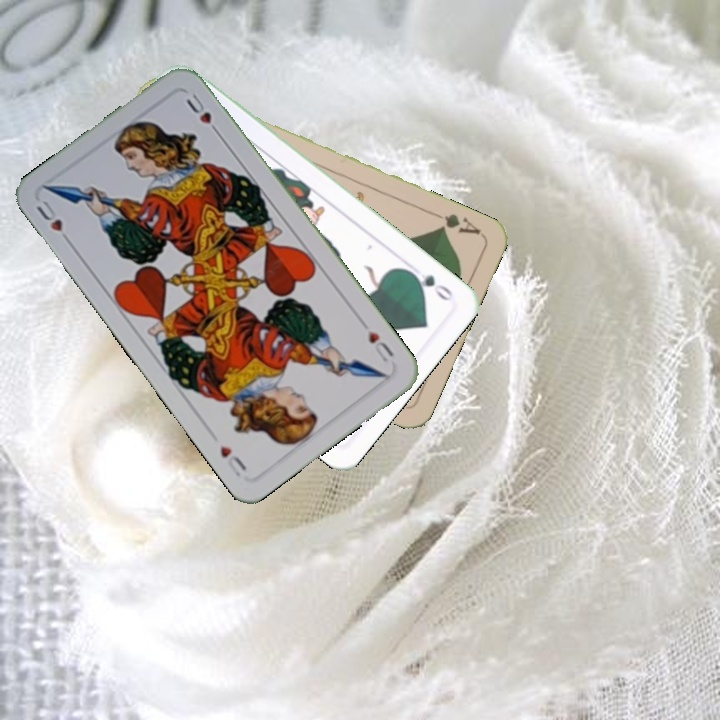GA: (427, 208, 484, 238)
GO: (403, 266, 456, 304)
HU: (31, 196, 75, 248), (363, 326, 397, 368)
